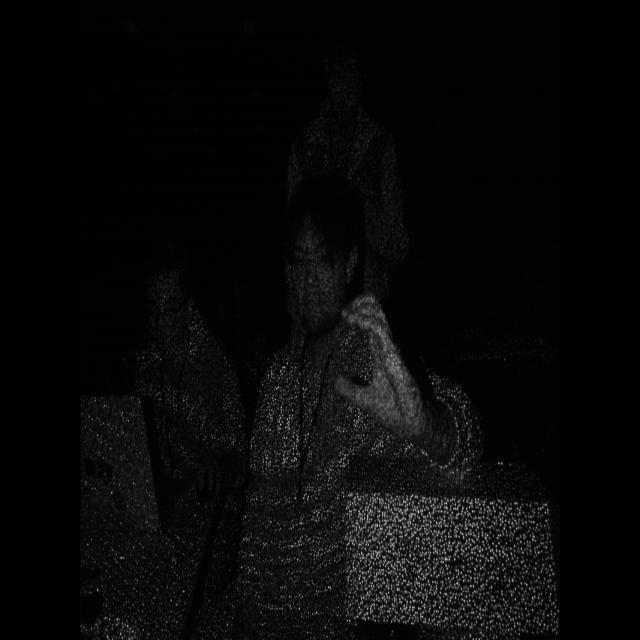C: (330, 283, 434, 452)
